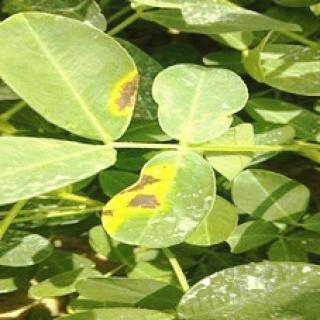leaf spot: (99, 160, 163, 240), (105, 67, 145, 124)
